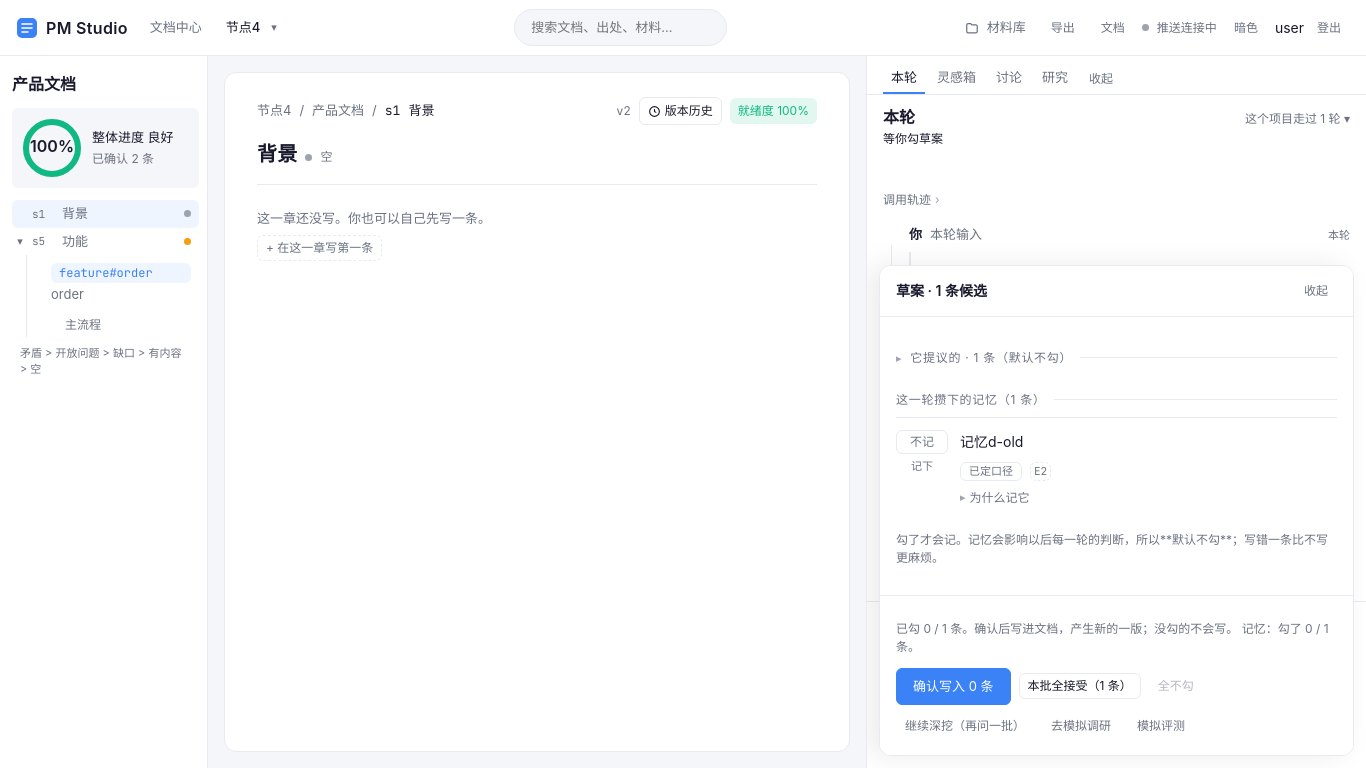
it: App replace唯一ID含#精确跳转，不跳同文本另一条
Expected: the text "记忆d-old" is shown, [960, 433, 1023, 450]
Click the heading "它提议的 · 1 条（默认不勾）": coordinates (991, 357) [910, 350, 1072, 365]
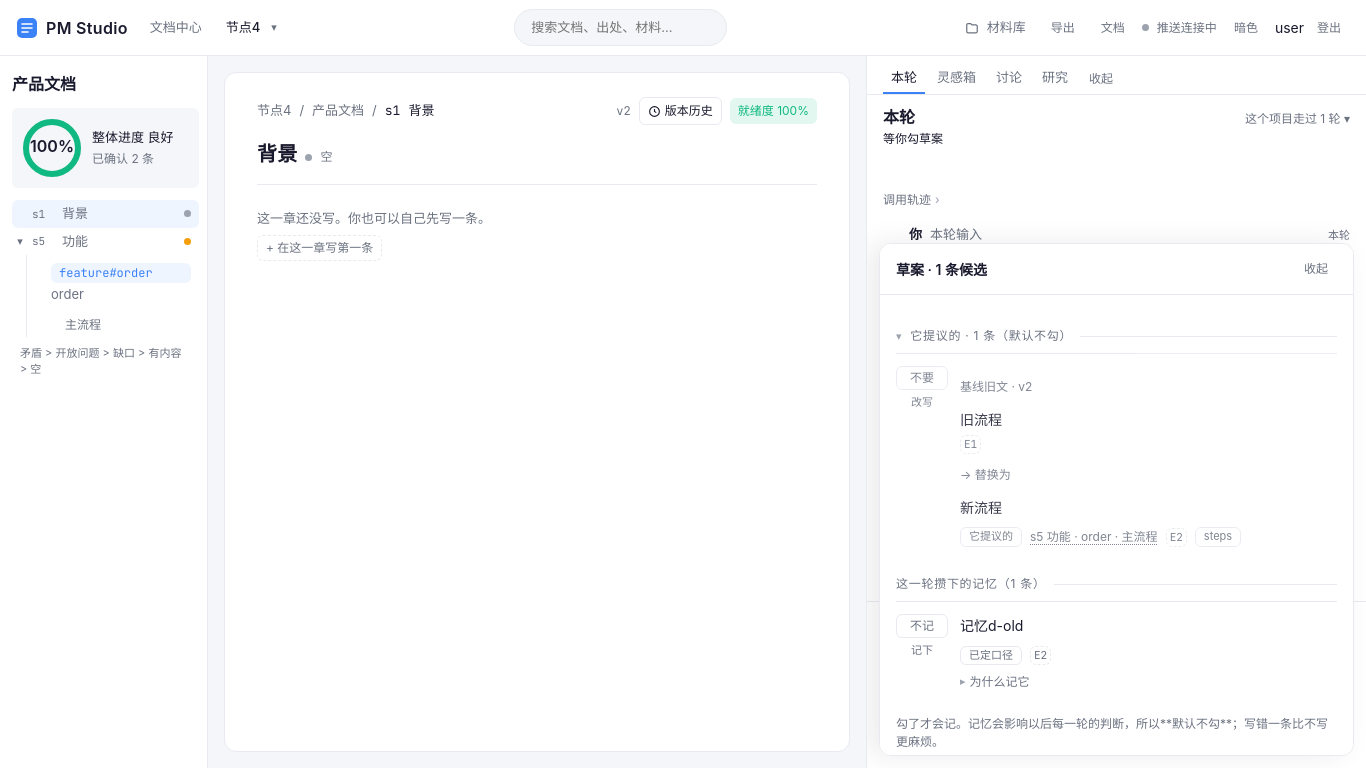
Click the button "s5 功能 · order · 主流程": coordinates (1094, 537) [1030, 528, 1158, 546]
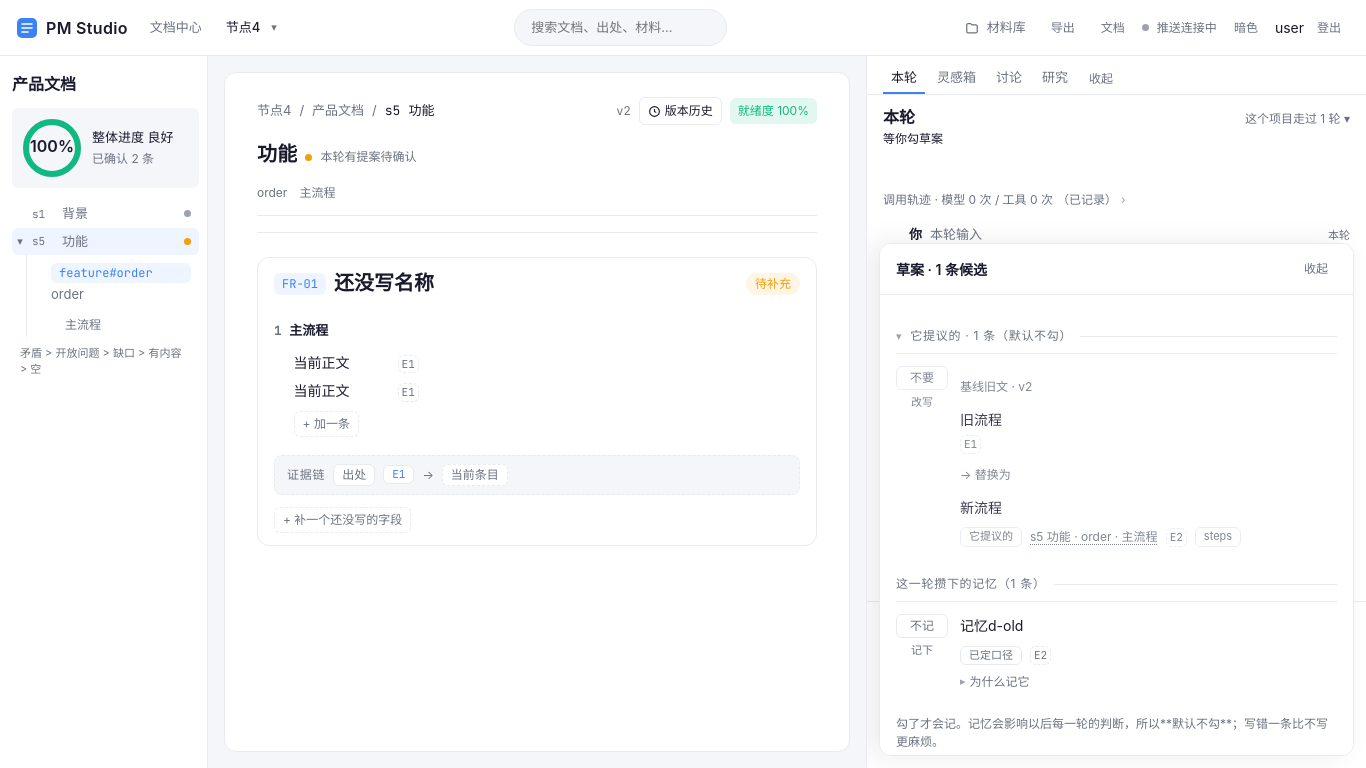
Now the list item with id "entry-old" is shown, box [294, 382, 419, 402]
